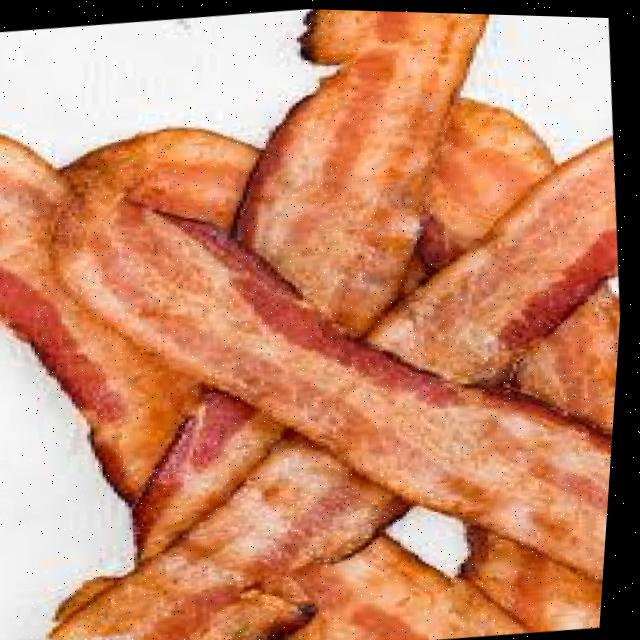Bacon: (61, 197, 618, 574), (239, 8, 483, 333), (0, 137, 205, 498), (60, 435, 414, 640), (371, 136, 616, 378), (301, 532, 535, 640), (421, 94, 556, 264), (64, 128, 261, 229)
